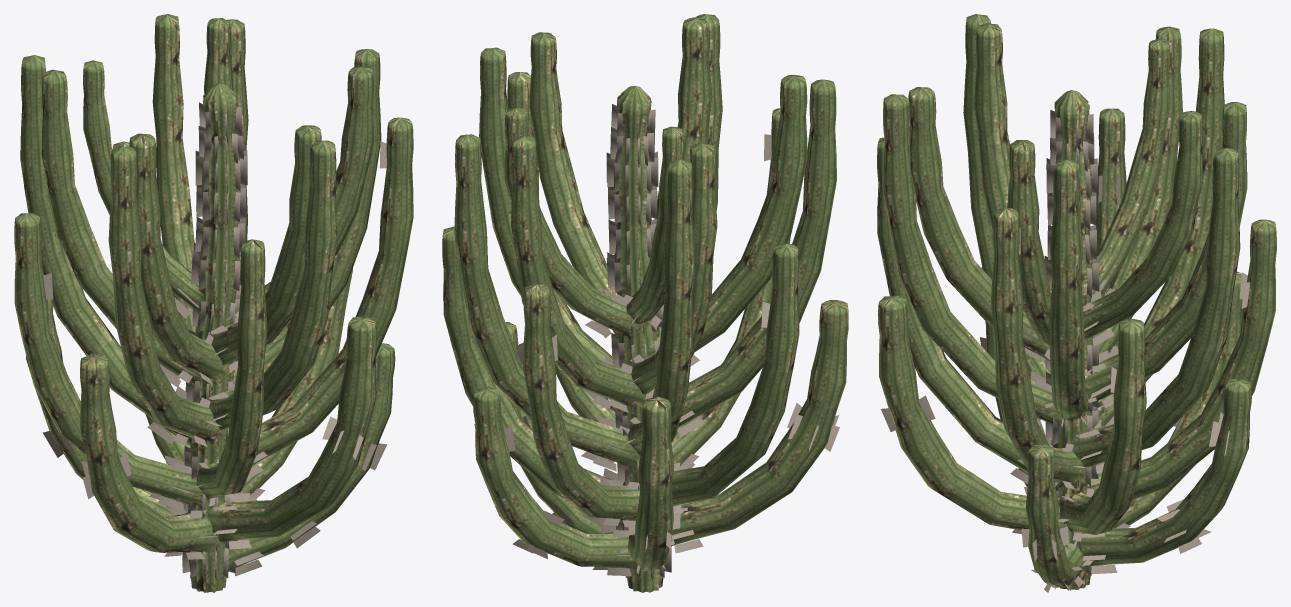
The model's file is cactus2.obj.
3 views of the same model, side by side, from view 1: azimuth 30°, elevation 25°; view 2: azimuth 150°, elevation 25°; view 3: azimuth 270°, elevation 25° (orthographic).
Parts seen in each view (by area): view 1: plant07, thorns; view 2: plant07, thorns; view 3: plant07, thorns.
Part boxes in pixels (x1,y1,x2,y2): plant07: [14, 14, 413, 592]; thorns: [43, 102, 387, 580]; plant07: [442, 14, 848, 592]; thorns: [474, 104, 839, 580]; plant07: [877, 14, 1276, 590]; thorns: [881, 110, 1250, 592].
Size of the model in its own units: 166 by 234 by 167.
Materials: 2 (2 with a texture image).
